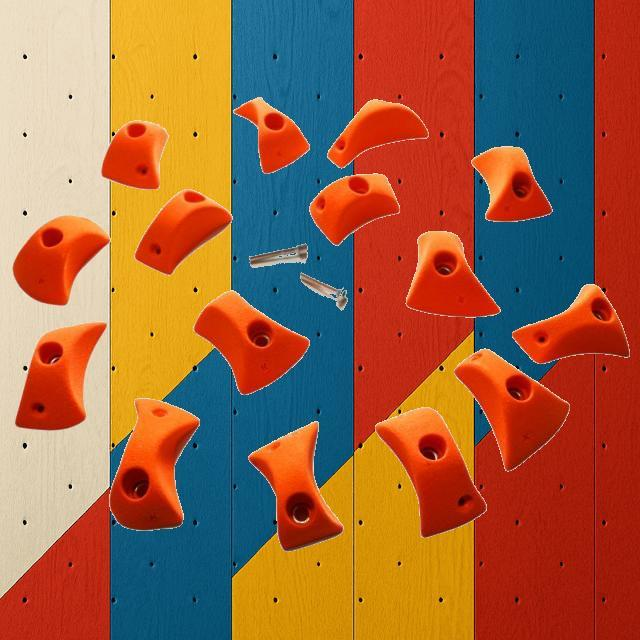Pinch: (374, 406, 486, 538), (453, 347, 569, 471), (247, 421, 343, 552), (193, 289, 309, 395), (109, 398, 200, 530), (13, 320, 106, 430), (510, 282, 630, 363), (11, 213, 109, 305), (134, 187, 232, 275), (404, 230, 500, 318), (327, 98, 429, 168), (309, 172, 399, 245), (232, 94, 310, 174), (471, 145, 552, 221), (100, 119, 168, 190)
